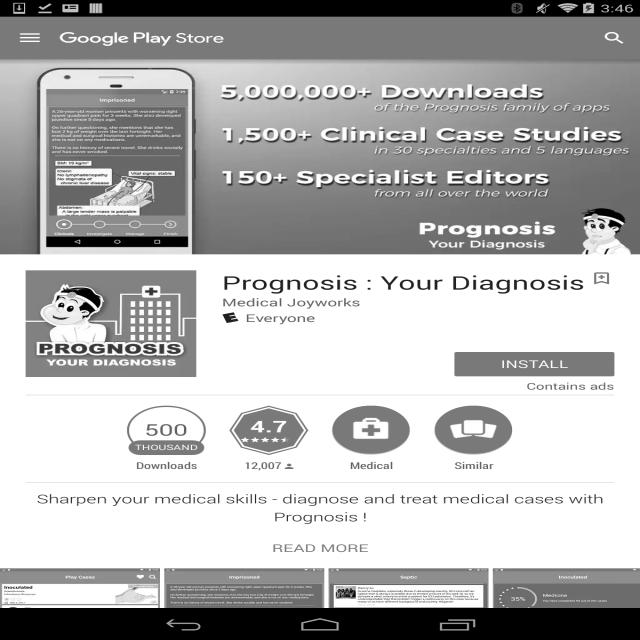Button: (222, 406, 316, 472), (324, 406, 418, 472), (426, 406, 520, 472), (454, 352, 614, 376)
ImageButton: (0, 17, 60, 59)
ImageView: (0, 59, 640, 254), (26, 270, 196, 377), (0, 568, 160, 640), (164, 568, 324, 640), (328, 568, 488, 640), (493, 568, 640, 640), (332, 406, 411, 455), (434, 406, 513, 455), (60, 30, 224, 46), (589, 270, 614, 286), (222, 312, 239, 323), (285, 464, 293, 469)
TextView: (0, 490, 640, 537), (0, 537, 640, 555), (222, 270, 589, 295), (222, 295, 360, 309), (589, 22, 640, 54), (324, 455, 418, 472), (426, 455, 520, 472), (120, 455, 213, 472), (526, 380, 614, 392), (245, 311, 316, 325), (144, 420, 188, 440), (250, 415, 288, 437), (244, 455, 282, 472), (133, 443, 200, 452)
